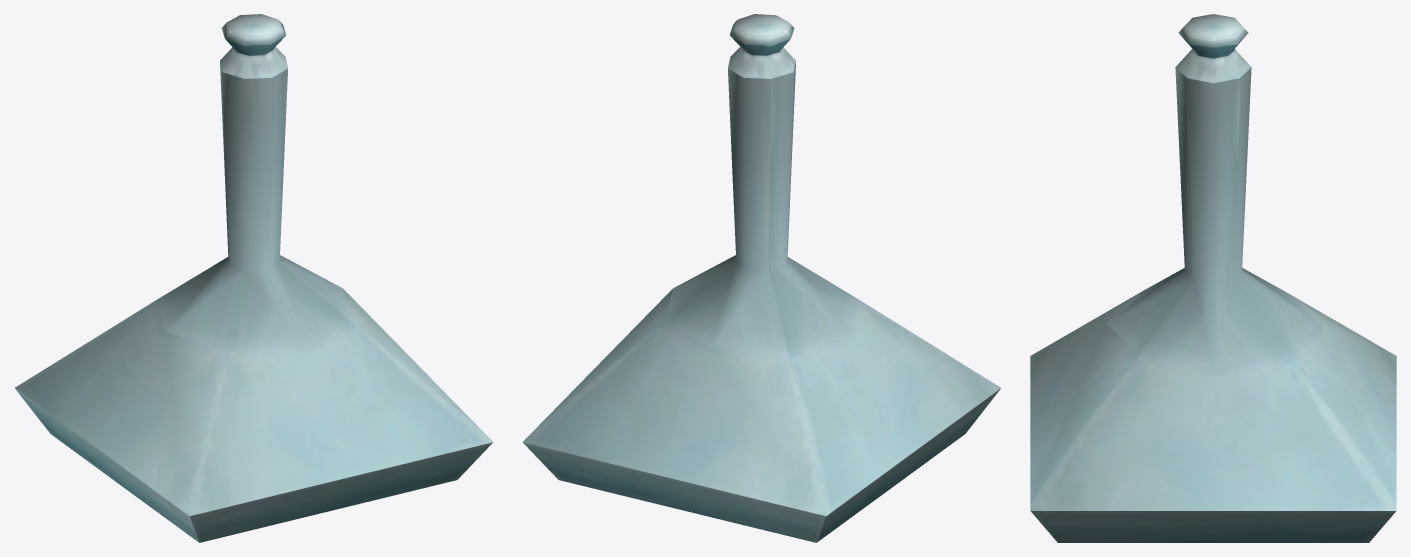
The model's file is potion_red04.obj.
3 views of the same model, side by side, from view 1: azimuth 30°, elevation 25°; view 2: azimuth 150°, elevation 25°; view 3: azimuth 270°, elevation 25° (orthographic). The views are drawn at different scales.
Parts seen in each view (by area): view 1: Geoset2, Geoset1; view 2: Geoset2, Geoset1; view 3: Geoset2, Geoset1.
Part boxes in pixels (x1,y1,x2,y2): Geoset2: (15, 47, 493, 542); Geoset1: (221, 14, 286, 55); Geoset2: (522, 47, 1000, 542); Geoset1: (729, 14, 794, 55); Geoset2: (1030, 49, 1396, 542); Geoset1: (1178, 14, 1248, 58).
Size of the model in its own units: 0.3269 by 0.4439 by 0.3269.
1 material, 1 textured.
